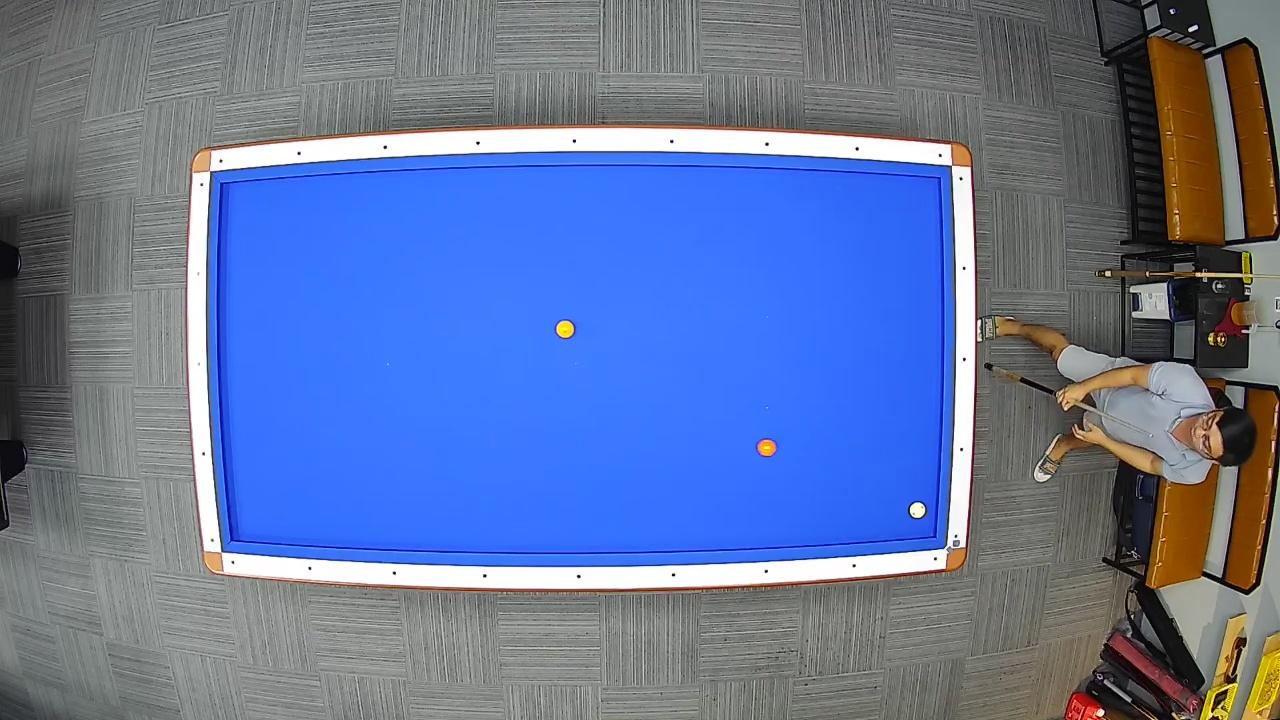Orange: (756, 437, 778, 459)
White: (908, 500, 928, 522)
Yellow: (554, 318, 576, 341)
